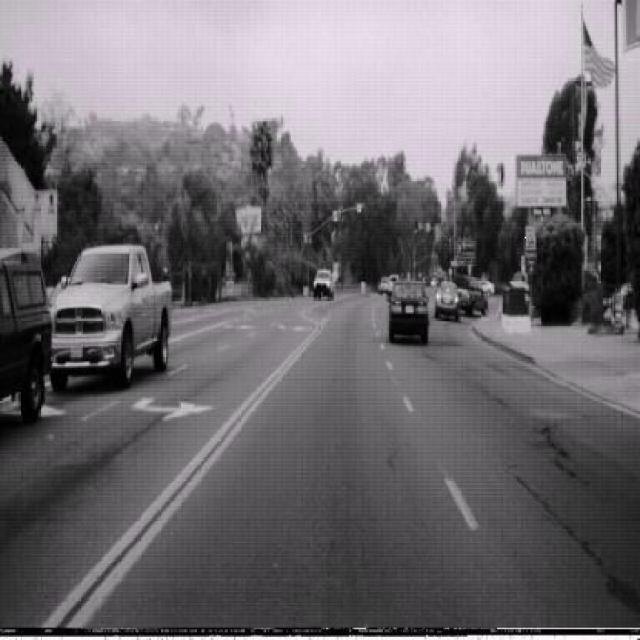speedLimit35: (524, 223, 536, 251)
